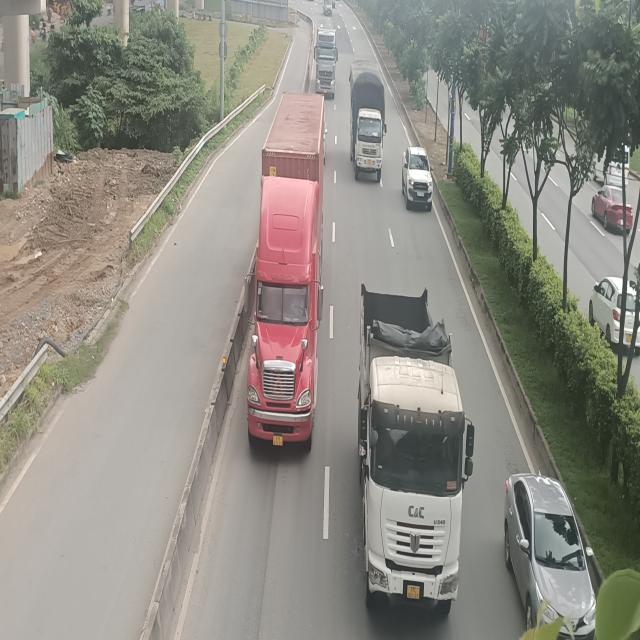car: (503, 470, 597, 634), (402, 145, 433, 213)
container: (355, 284, 475, 600), (246, 91, 326, 448), (314, 28, 338, 98)
truck: (351, 62, 386, 182)
